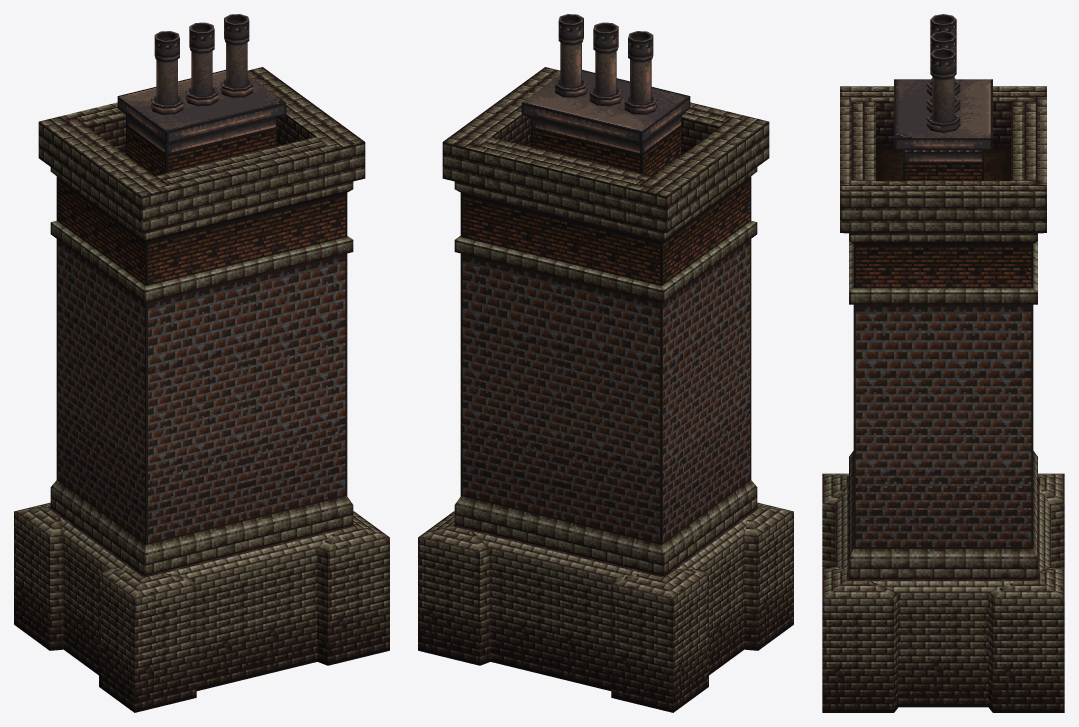
File: EnvBdgMD_Factory_B_Chimney_A.FBX
3 views of the same model, side by side, from view 1: azimuth 30°, elevation 25°; view 2: azimuth 150°, elevation 25°; view 3: azimuth 270°, elevation 25° (orthographic).
Parts seen in each view (by area): view 1: EnvBdgMD_Factory_B_Chimney_A; view 2: EnvBdgMD_Factory_B_Chimney_A; view 3: EnvBdgMD_Factory_B_Chimney_A.
Boxes of the visible parts, bbox=[...] form: EnvBdgMD_Factory_B_Chimney_A: bbox=[14, 14, 389, 712]; EnvBdgMD_Factory_B_Chimney_A: bbox=[418, 14, 793, 712]; EnvBdgMD_Factory_B_Chimney_A: bbox=[822, 14, 1064, 712].
Bounding box in the file's own units: 660 × 1507 × 540.
